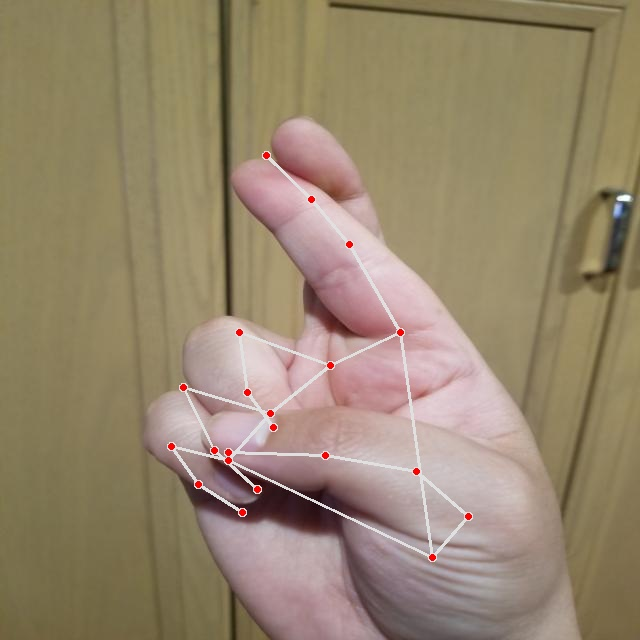R: (127, 111, 601, 639)
